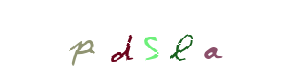5: (101, 0, 181, 80)
A: (141, 0, 221, 80)
D: (98, 0, 178, 80)
L: (102, 0, 182, 80)
P: (83, 0, 163, 80)
